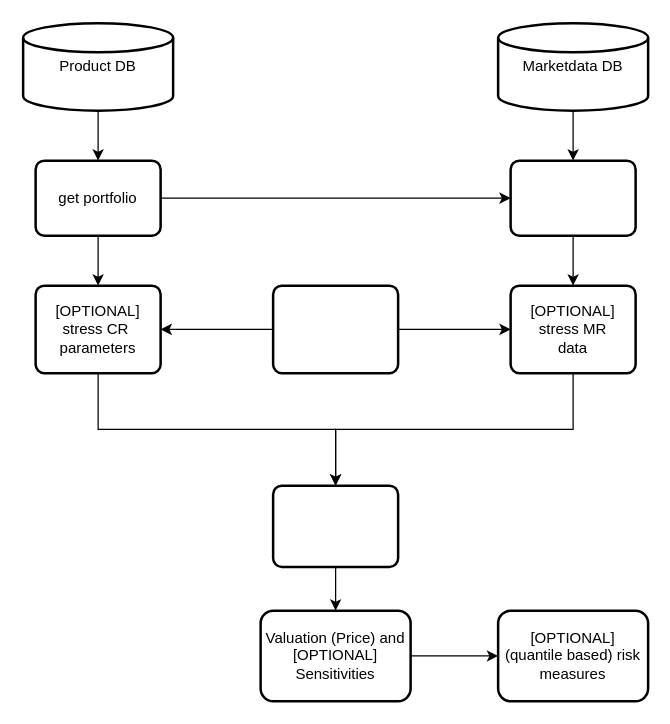
This 670x724 diagram has some shape labels left out. The shapes that lost their labels are listed below. From the top down, each one's centre as x and y in pixels, then its label:
point (572, 197): get marketdata
point (335, 329): [OPTIONAL] Scenario definition
point (335, 526): generate Cash Flows
